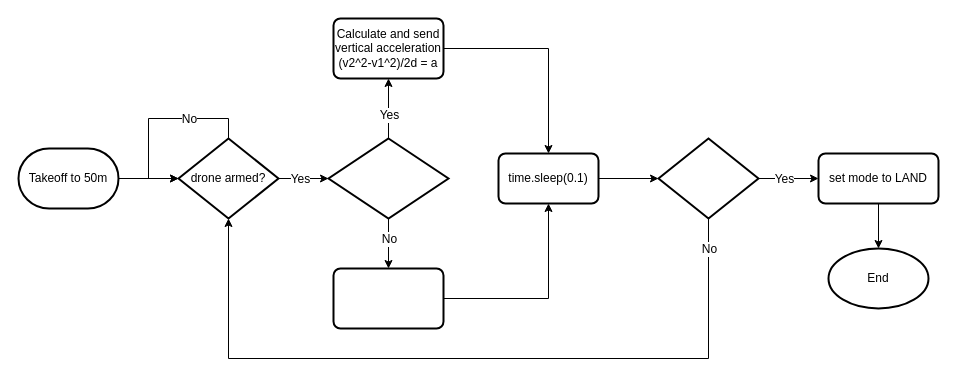
This 956x384 diagram has some shape labels left out. Each missing label, with the centre of its shape:
Command 9.8m/s of downwards acceleration (freefall): (x=388, y=298)
height <= 1m?: (x=708, y=178)
height <= 45m?: (x=388, y=178)
